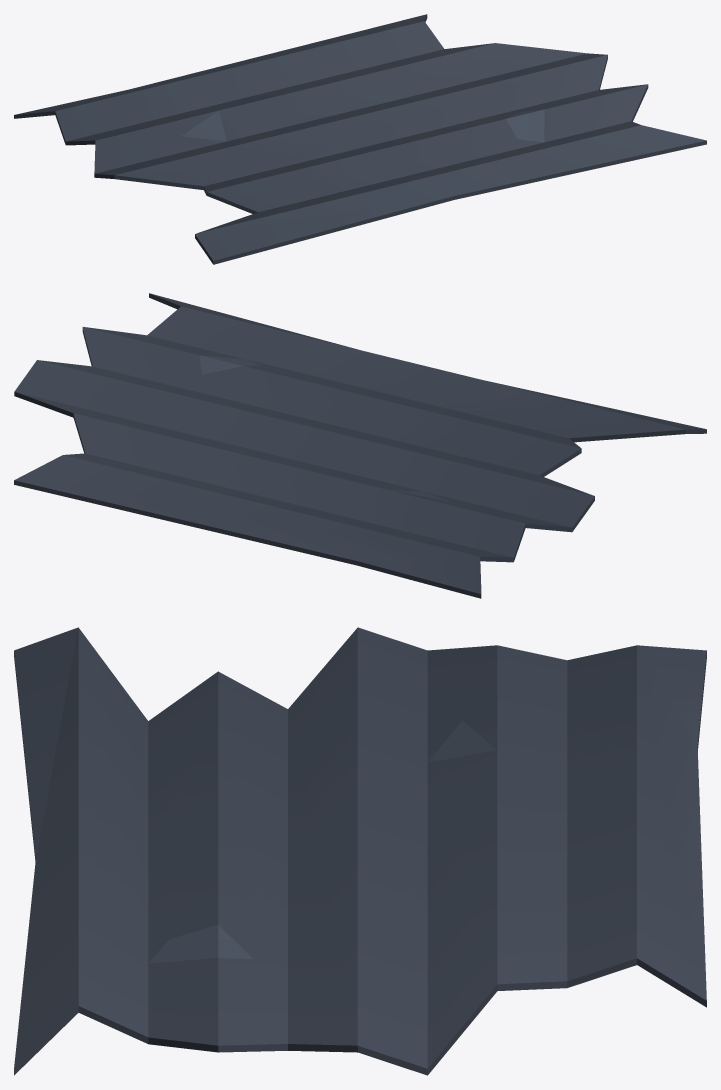
File: SheetMetal_C_2.glb
The picture shows the model from 3 angles, top to bottom: view 1: azimuth 30°, elevation 25°; view 2: azimuth 150°, elevation 25°; view 3: azimuth 270°, elevation 25°; orthographic projection. The views are drawn at different scales.
Visible parts, largest first — view 1: SheetMetal_C_2; view 2: SheetMetal_C_2; view 3: SheetMetal_C_2.
Part boxes in pixels (x1,y1,x2,y2): SheetMetal_C_2: (14, 14, 706, 264); SheetMetal_C_2: (14, 293, 706, 598); SheetMetal_C_2: (14, 627, 706, 1075).
Size of the model in its own units: 1.37 by 0.0458 by 0.9605.
Materials: 1 (1 with a texture image).
